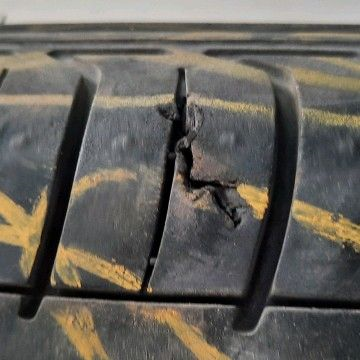tr: (166, 106, 245, 230)
